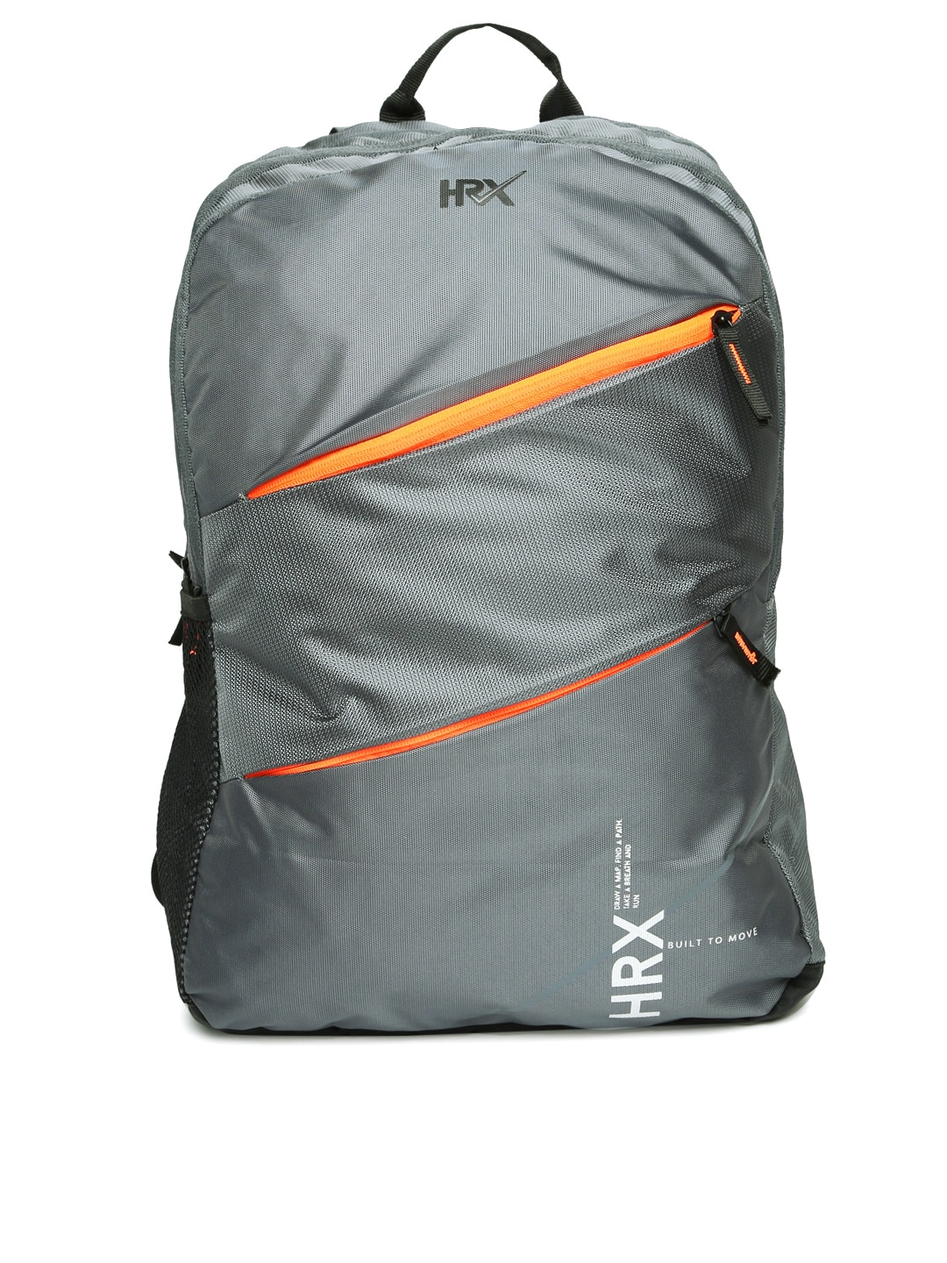backpack: (152, 21, 827, 1034)
